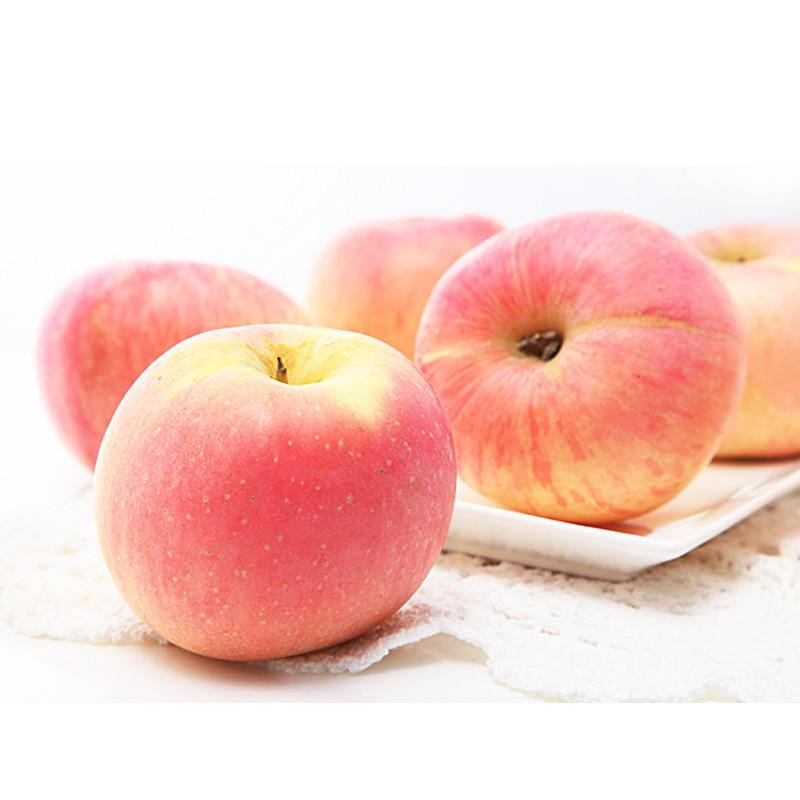apple: (83, 318, 461, 666), (413, 211, 753, 523), (29, 258, 300, 480), (300, 213, 504, 366), (678, 214, 799, 460)
